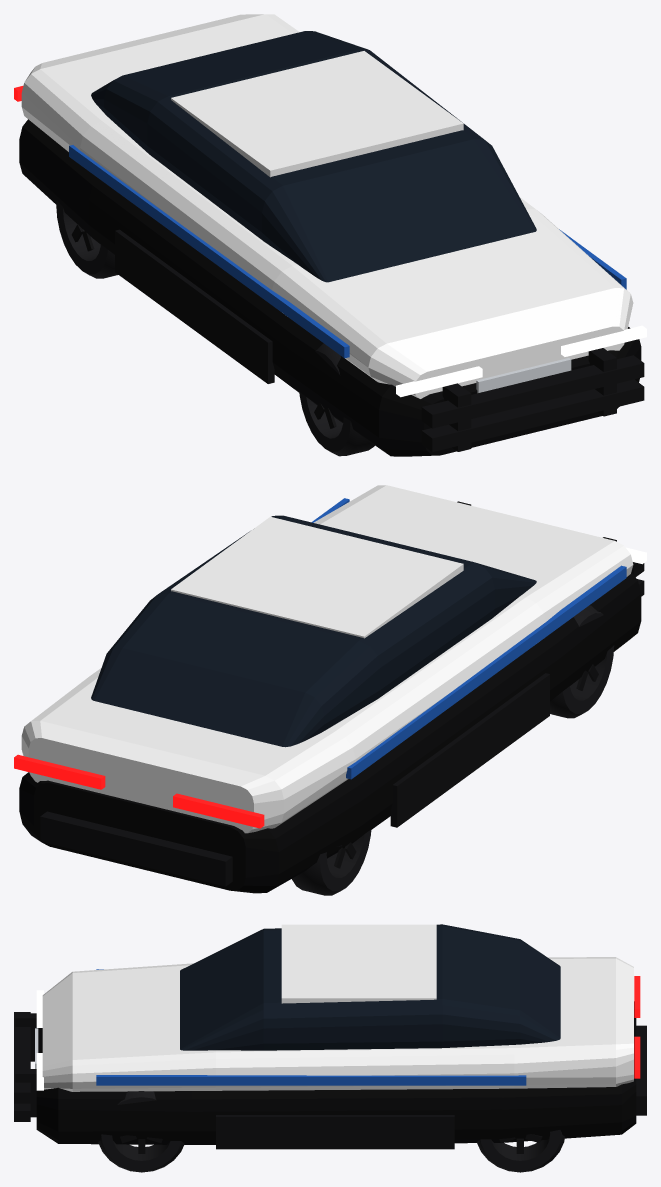
Rendered from enforcer.glb.
3 renders of one model, top to bottom at view 1: azimuth 30°, elevation 25°; view 2: azimuth 150°, elevation 25°; view 3: azimuth 270°, elevation 25°, orthographic. The views are drawn at different scales.
Visible parts, largest first — view 1: Body, Wheel_FR, Wheel_RR; view 2: Body, Wheel_RR, Wheel_FR; view 3: Body, Wheel_FL, Wheel_RL.
Boxes of the visible parts, x1=… form: Body: x1=14, y1=14, x2=646, y2=456; Wheel_FR: x1=299, y1=343, x2=374, y2=456; Wheel_RR: x1=56, y1=200, x2=118, y2=278; Body: x1=14, y1=485, x2=646, y2=893; Wheel_RR: x1=292, y1=829, x2=371, y2=895; Wheel_FR: x1=550, y1=605, x2=614, y2=718; Body: x1=14, y1=924, x2=646, y2=1149; Wheel_FL: x1=98, y1=1091, x2=184, y2=1172; Wheel_RL: x1=476, y1=1130, x2=564, y2=1172.
Bounding box in the file's own units: 2.13 × 1.51 × 5.3.
